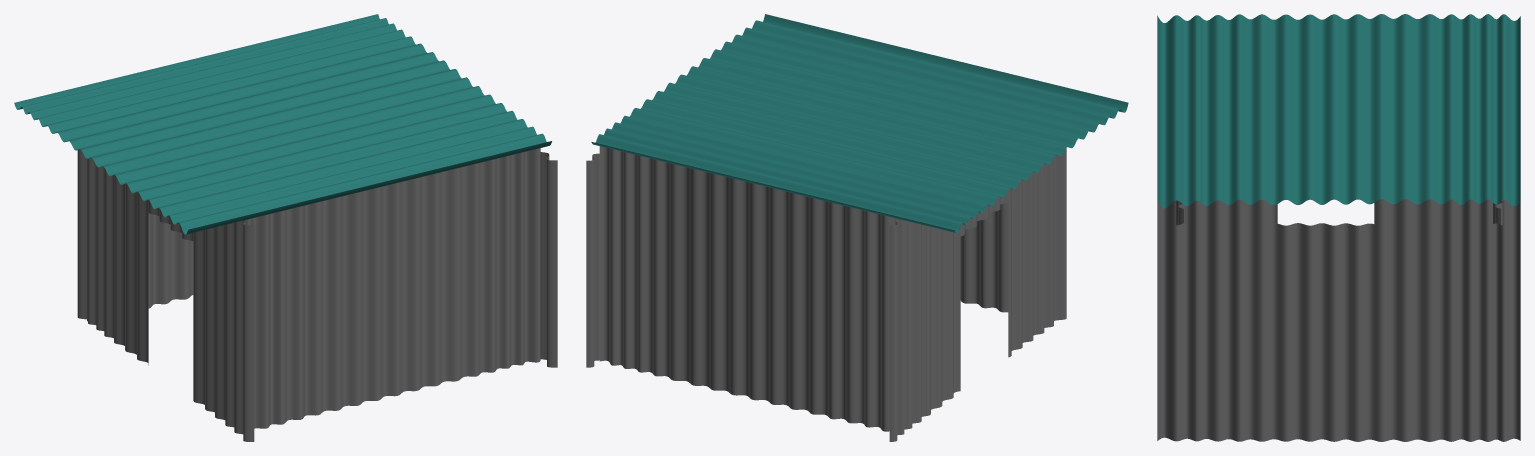
File: Slum houses 104.fbx
3 views of the same model, side by side, from view 1: azimuth 30°, elevation 25°; view 2: azimuth 150°, elevation 25°; view 3: azimuth 270°, elevation 25° (orthographic). The views are drawn at different scales.
Parts seen in each view (by area): view 1: NurbsPath.002, NurbsPath, NurbsPath.004, NurbsPath.006, NurbsPath.008, NurbsPath.011, NurbsPath.003, NurbsPath.001, NurbsPath.010, NurbsPath.009; view 2: NurbsPath.002, NurbsPath.001, NurbsPath.004, NurbsPath.006, NurbsPath.009, NurbsPath.011, NurbsPath, NurbsPath.003, NurbsPath.010, NurbsPath.008; view 3: NurbsPath.003, NurbsPath.002, NurbsPath.006, NurbsPath.010, NurbsPath.004, NurbsPath.011.
Part boxes in pixels (bbox=[...]): NurbsPath.002: bbox=[14, 14, 551, 234]; NurbsPath: bbox=[245, 148, 540, 428]; NurbsPath.004: bbox=[77, 149, 254, 441]; NurbsPath.006: bbox=[15, 15, 550, 233]; NurbsPath.008: bbox=[246, 148, 540, 428]; NurbsPath.011: bbox=[77, 150, 254, 441]; NurbsPath.003: bbox=[540, 152, 557, 367]; NurbsPath.001: bbox=[87, 159, 193, 321]; NurbsPath.010: bbox=[540, 152, 557, 366]; NurbsPath.009: bbox=[87, 161, 193, 318]; NurbsPath.002: bbox=[591, 14, 1128, 233]; NurbsPath.001: bbox=[599, 146, 897, 431]; NurbsPath.004: bbox=[889, 148, 1066, 441]; NurbsPath.006: bbox=[594, 15, 1126, 231]; NurbsPath.009: bbox=[599, 147, 895, 431]; NurbsPath.011: bbox=[889, 153, 1066, 441]; NurbsPath: bbox=[960, 203, 1008, 312]; NurbsPath.003: bbox=[586, 153, 599, 367]; NurbsPath.010: bbox=[586, 154, 599, 366]; NurbsPath.008: bbox=[961, 204, 1008, 312]; NurbsPath.003: bbox=[1157, 221, 1520, 441]; NurbsPath.002: bbox=[1157, 14, 1520, 208]; NurbsPath.006: bbox=[1157, 14, 1520, 207]; NurbsPath.010: bbox=[1157, 222, 1520, 441]; NurbsPath.004: bbox=[1157, 199, 1520, 225]; NurbsPath.011: bbox=[1157, 199, 1520, 225].
Size of the model in its own units: 3716 by 2199 by 3021.
